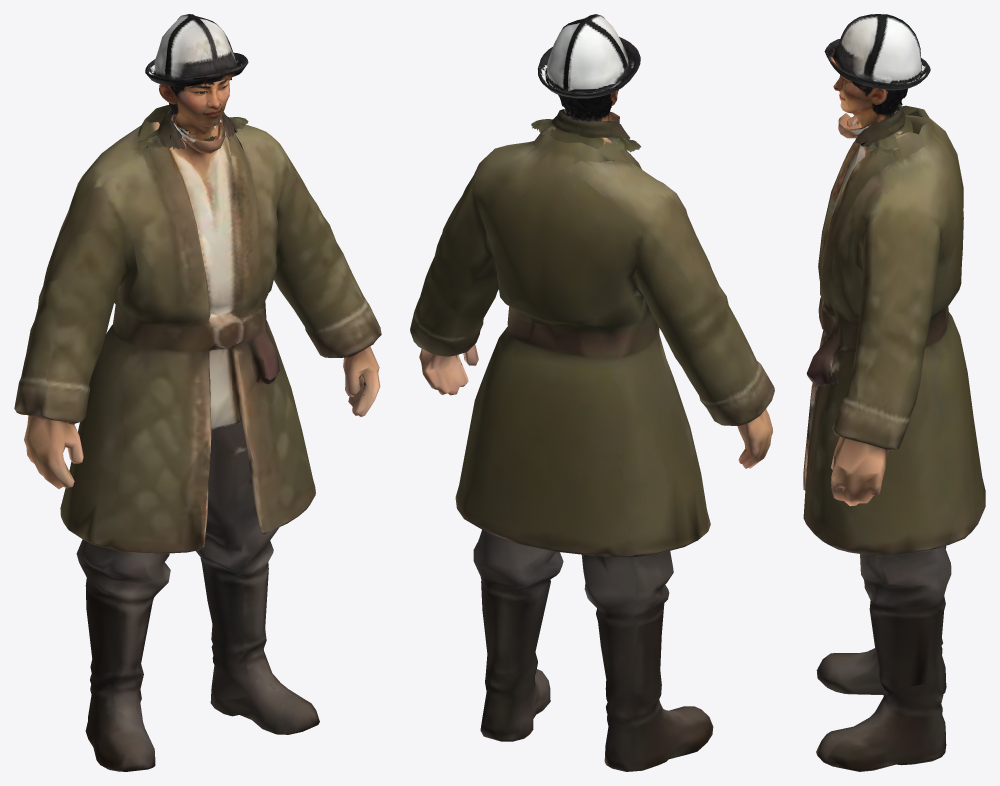
File: herder-erlan.gen.glb
3 renders of one model, left to right at view 1: azimuth 30°, elevation 25°; view 2: azimuth 150°, elevation 25°; view 3: azimuth 270°, elevation 25°, orthographic.
Visible parts, largest first — view 1: herder-erlan.raw; view 2: herder-erlan.raw; view 3: herder-erlan.raw.
Boxes of the visible parts, left/top/right/bottom form: herder-erlan.raw: left=14, top=14, right=381, bottom=771; herder-erlan.raw: left=410, top=14, right=774, bottom=771; herder-erlan.raw: left=803, top=14, right=985, bottom=771.
Size of the model in its own units: 0.9567 by 1.85 by 0.4318.
1 material, 1 textured.
